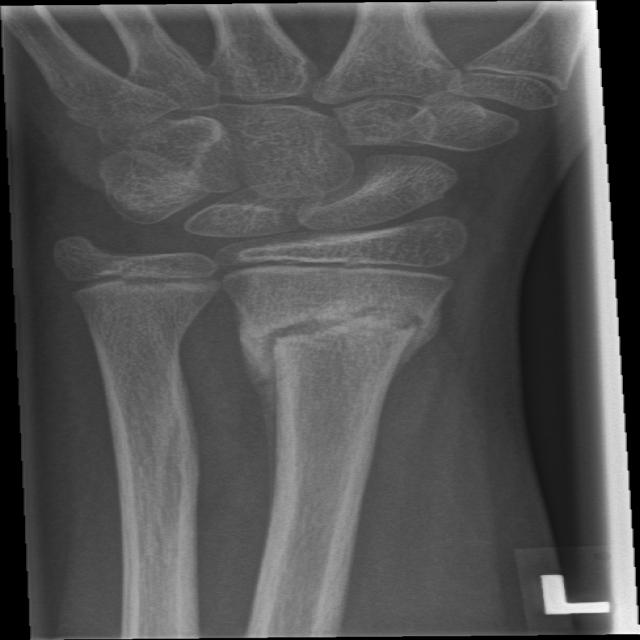radius fracture: (207, 276, 476, 444)
